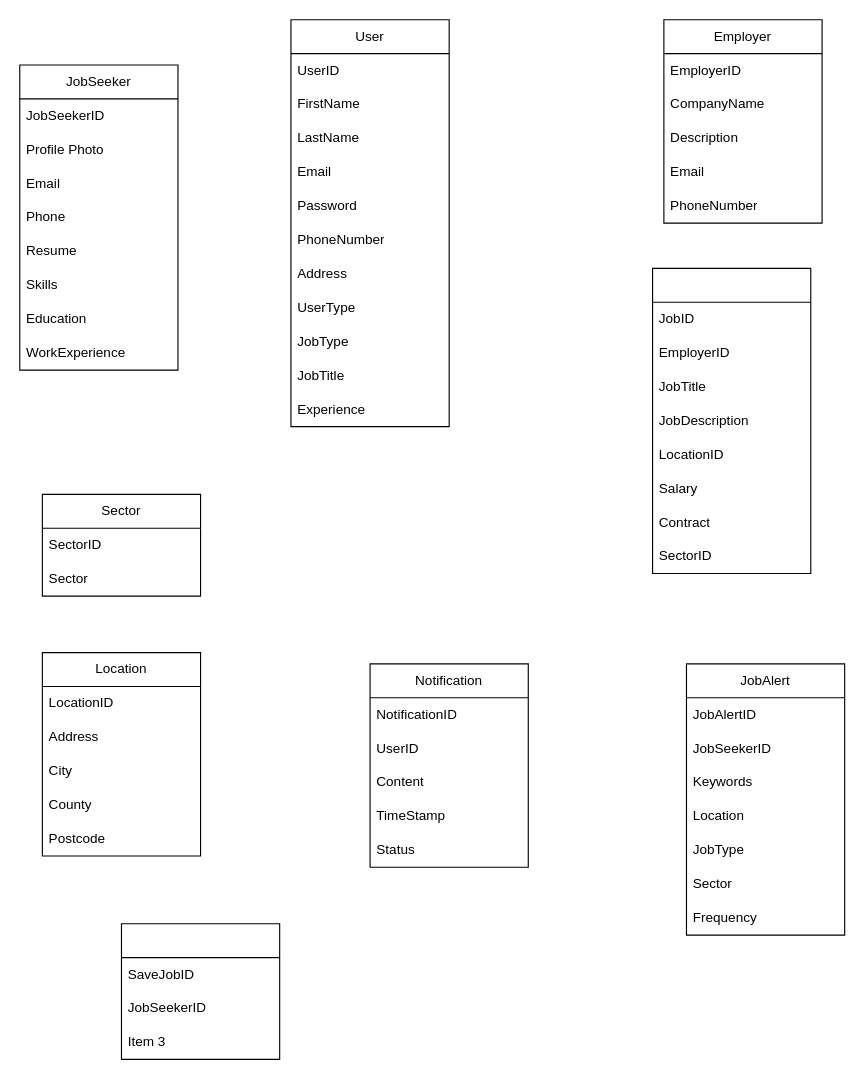
This 864x1079 diagram has some shape labels left out. The shapes that lost their labels are listed below. From the top down, each one's box as (x1, y1, x2, y2) in pixels, then its label:
(651, 267, 811, 573): JobListing
(120, 923, 280, 1059): SavedJobs
